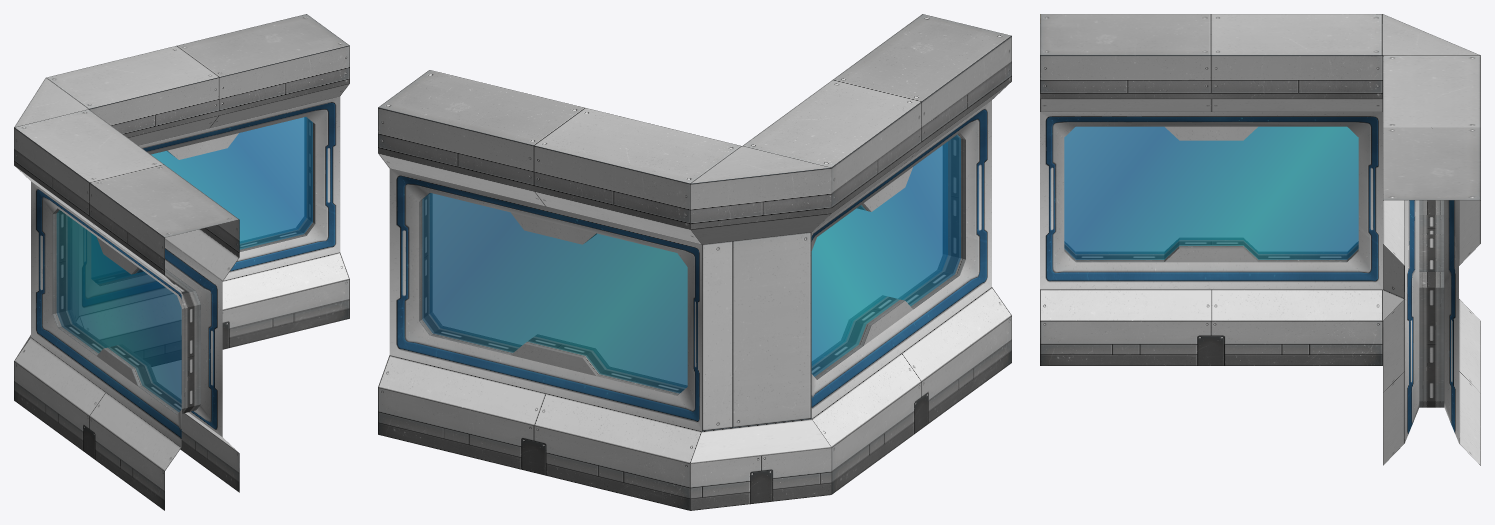
Rendered from Corner_Window_Short_01.FBX.
The picture shows the model from 3 angles, left to right: view 1: azimuth 30°, elevation 25°; view 2: azimuth 150°, elevation 25°; view 3: azimuth 270°, elevation 25°; orthographic projection. The views are drawn at different scales.
Parts seen in each view (by area): view 1: Corner_Window_Short_01; view 2: Corner_Window_Short_01; view 3: Corner_Window_Short_01.
Boxes of the visible parts, x1,y1,x2,y2 form: Corner_Window_Short_01: (14, 14, 349, 510); Corner_Window_Short_01: (378, 14, 1011, 510); Corner_Window_Short_01: (1040, 14, 1480, 465).
Bounding box in the file's own units: 180 × 140 × 180.
